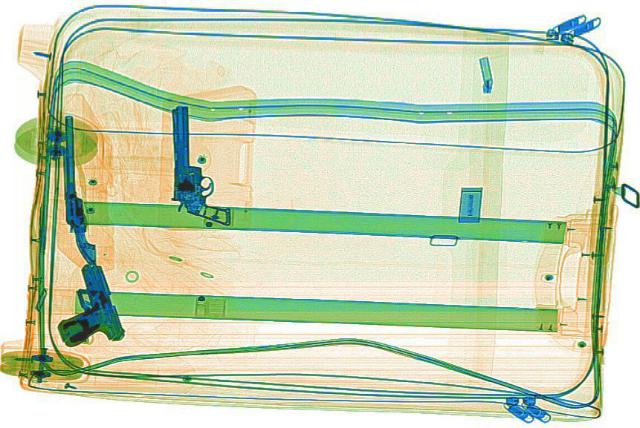Gun: (164, 102, 232, 224), (34, 260, 128, 347), (46, 112, 98, 262)
